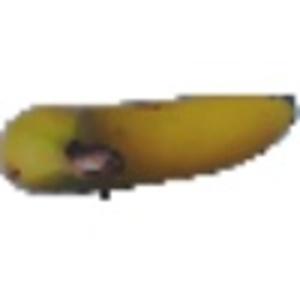banana: (2, 89, 296, 205)
